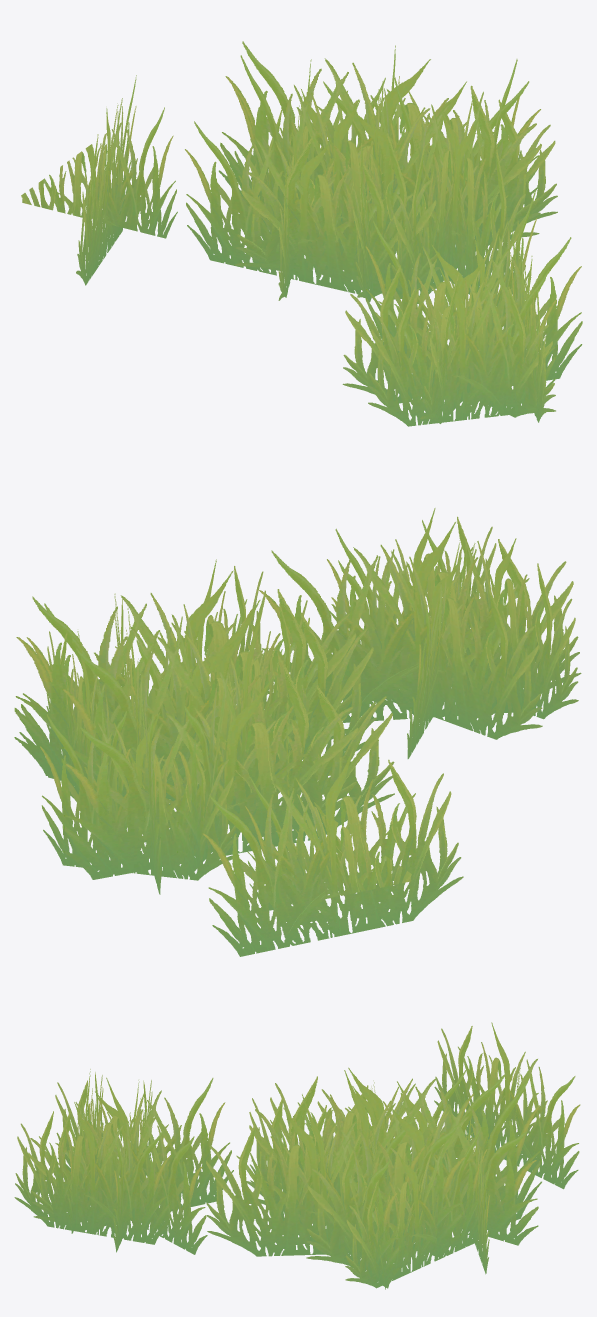
Rendered from SM_cao14_znj_home.fbx.
The picture shows the model from 3 angles, top to bottom: view 1: azimuth 30°, elevation 25°; view 2: azimuth 150°, elevation 25°; view 3: azimuth 270°, elevation 25°; orthographic projection. The views are drawn at different scales.
Parts seen in each view (by area): view 1: SM_cao14_znj_home.mo; view 2: SM_cao14_znj_home.mo; view 3: SM_cao14_znj_home.mo.
Boxes of the visible parts, bbox=[...] form: SM_cao14_znj_home.mo: bbox=[21, 41, 582, 426]; SM_cao14_znj_home.mo: bbox=[14, 508, 581, 956]; SM_cao14_znj_home.mo: bbox=[14, 1022, 580, 1289].
Size of the model in its own units: 1.77 by 0.8042 by 2.36.
